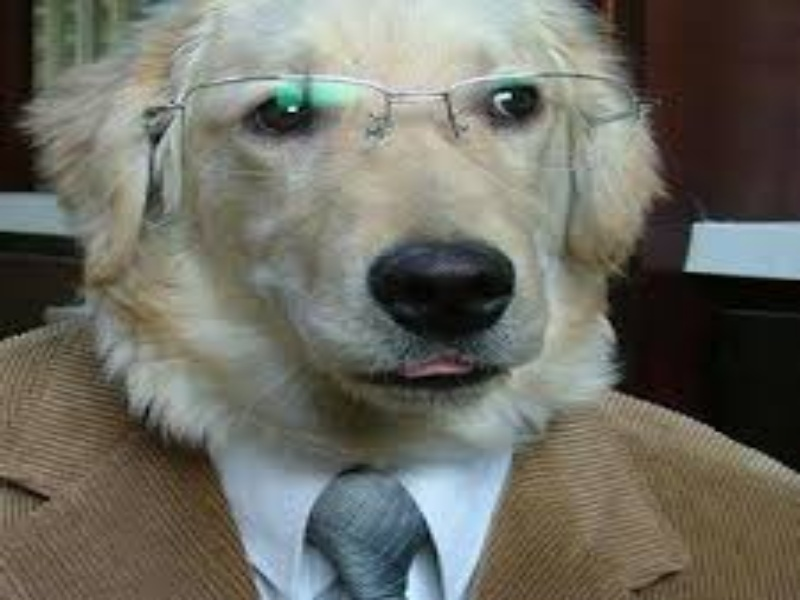dog: (42, 3, 665, 448)
